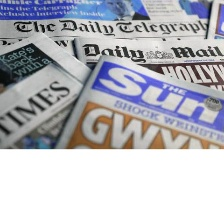news_paper: (49, 51, 224, 150), (0, 0, 212, 59), (0, 29, 97, 151), (72, 33, 223, 91)
